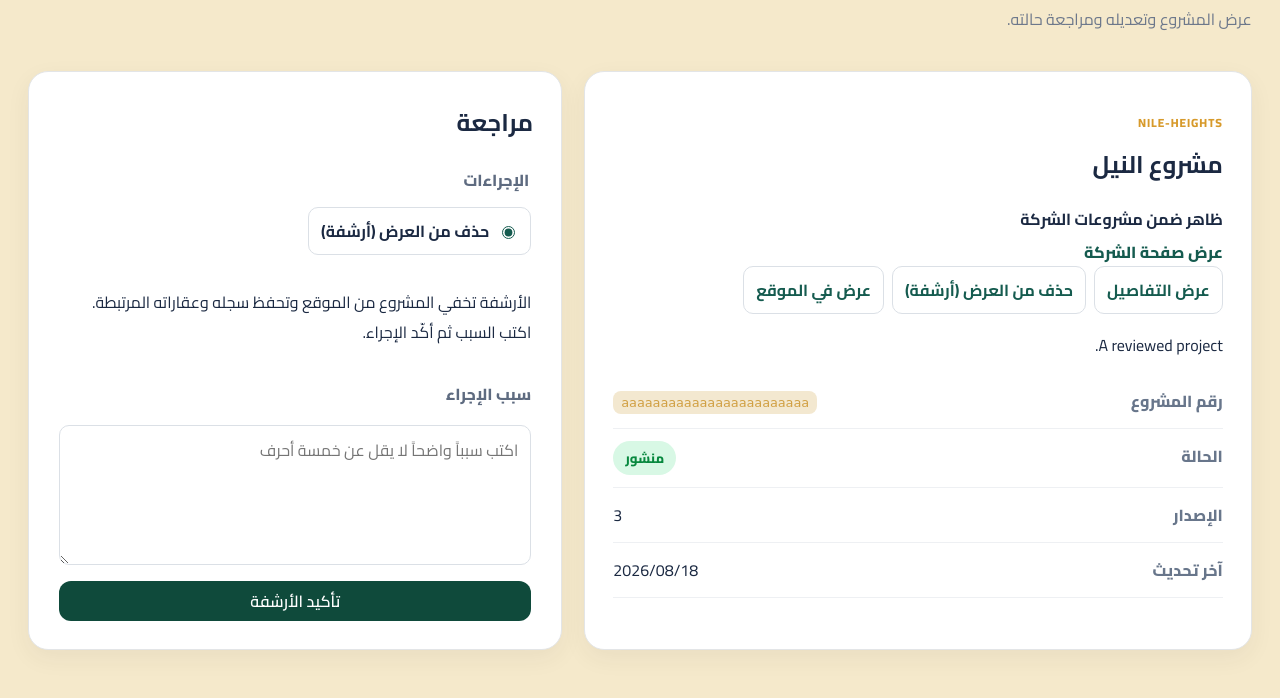
Test case: Admin project management contracts and views › confirms versioned archive without offering project creation for ar
(page scrolled)
Check: the radio button labelled "حذف من العرض (أرشفة)" is checked, box [502,226,515,239]
Step 1. Click the button "تأكيد الأرشفة" → (295, 601), box [59,581,531,621]
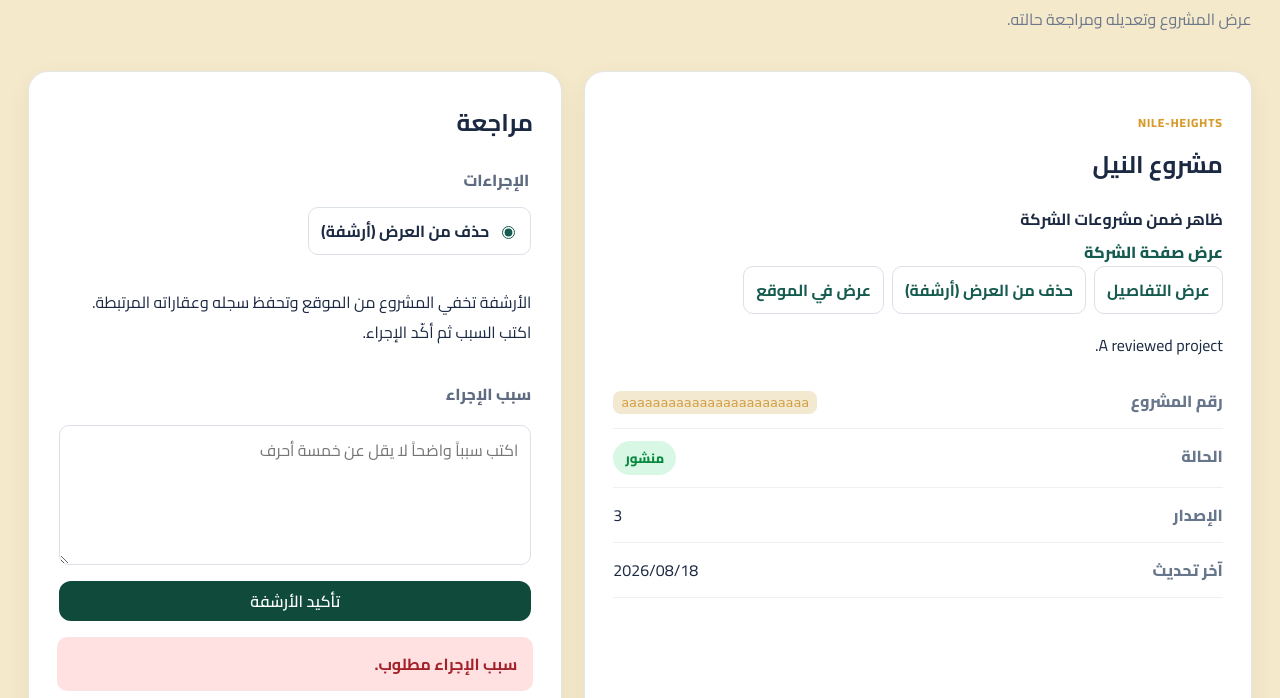
Check: the message reads "سبب الإجراء مطلوب.", box [374,649,517,679]
Step 2. Type "Remove displayed project" into the text box labelled "سبب الإجراء" → (295, 495), box [59,425,531,565]
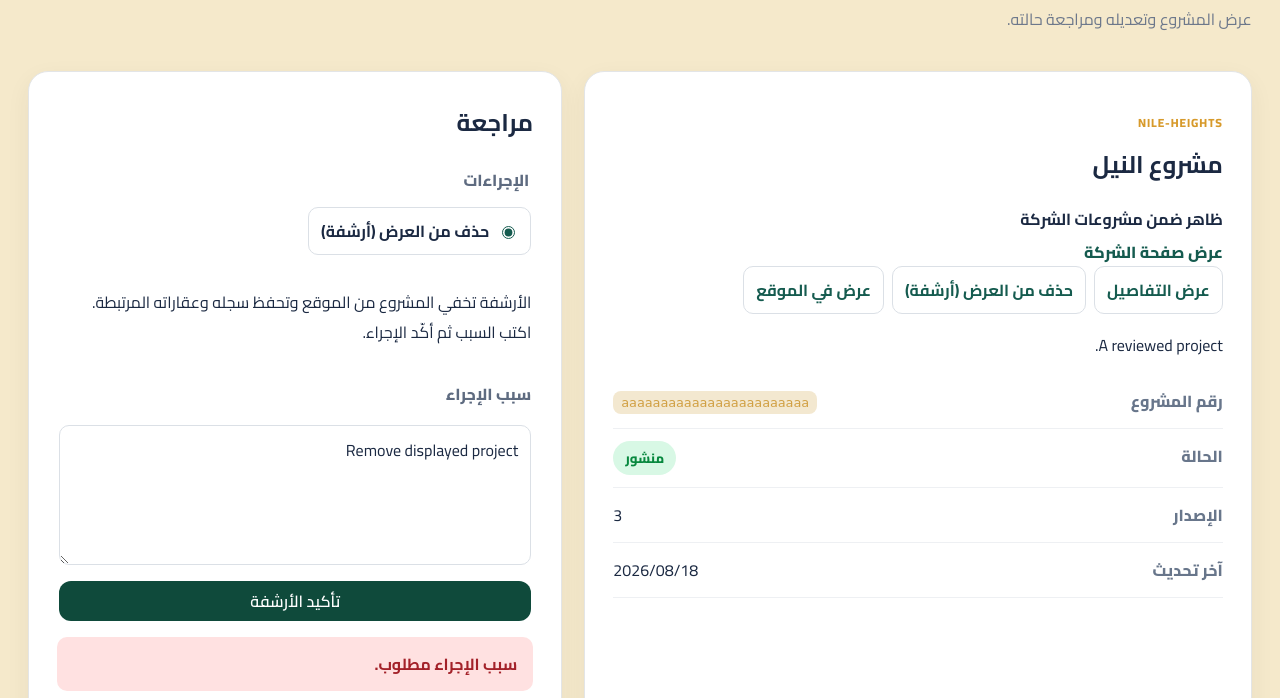
Step 3. Click the button "تأكيد الأرشفة" → (295, 601), box [59,581,531,621]
(page scrolled)
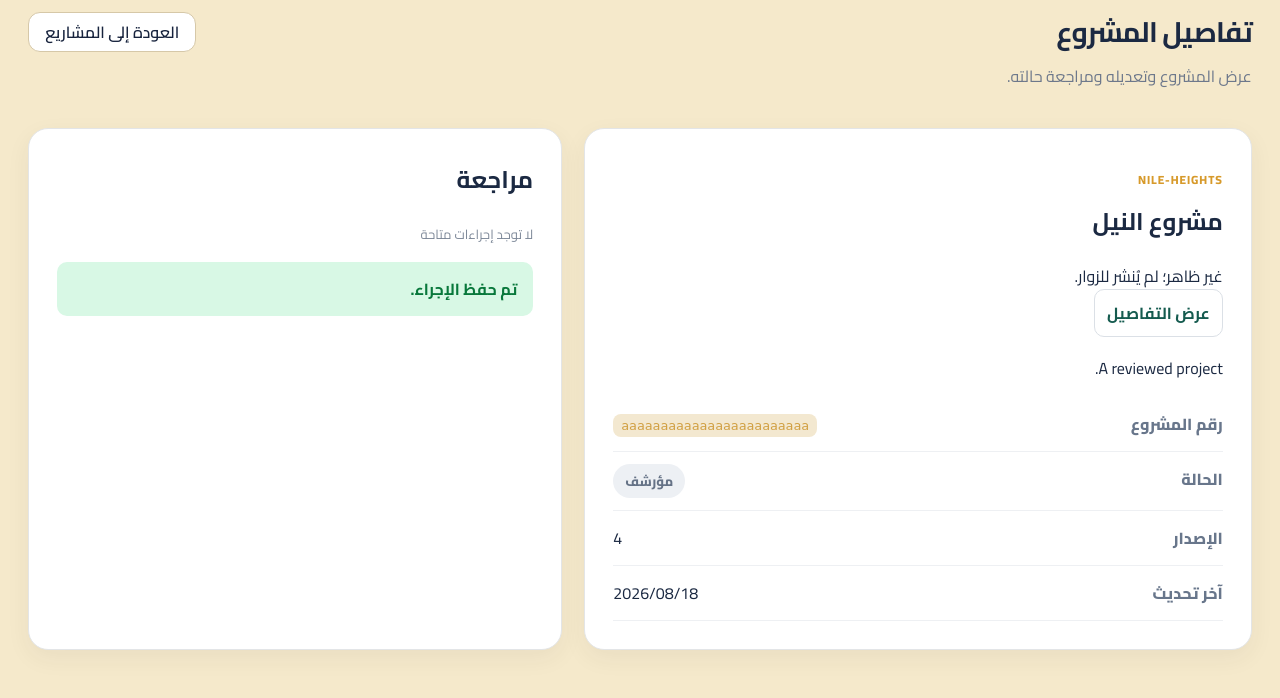
Check: the radio button is gone
